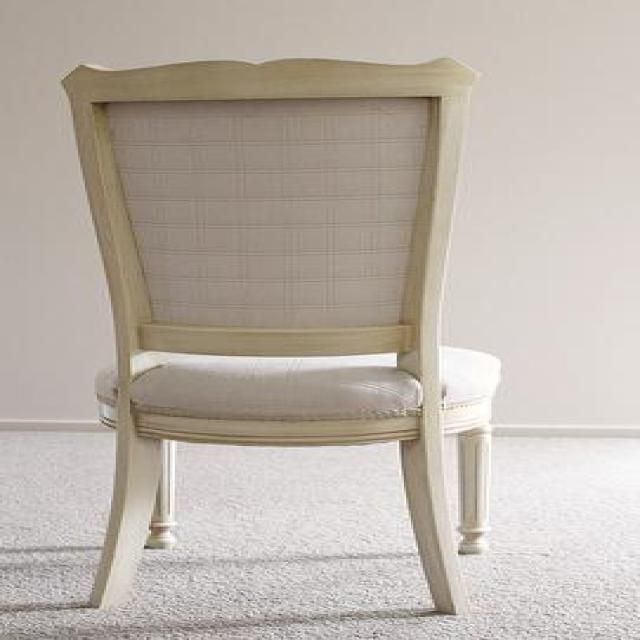chair: (59, 55, 501, 615)
